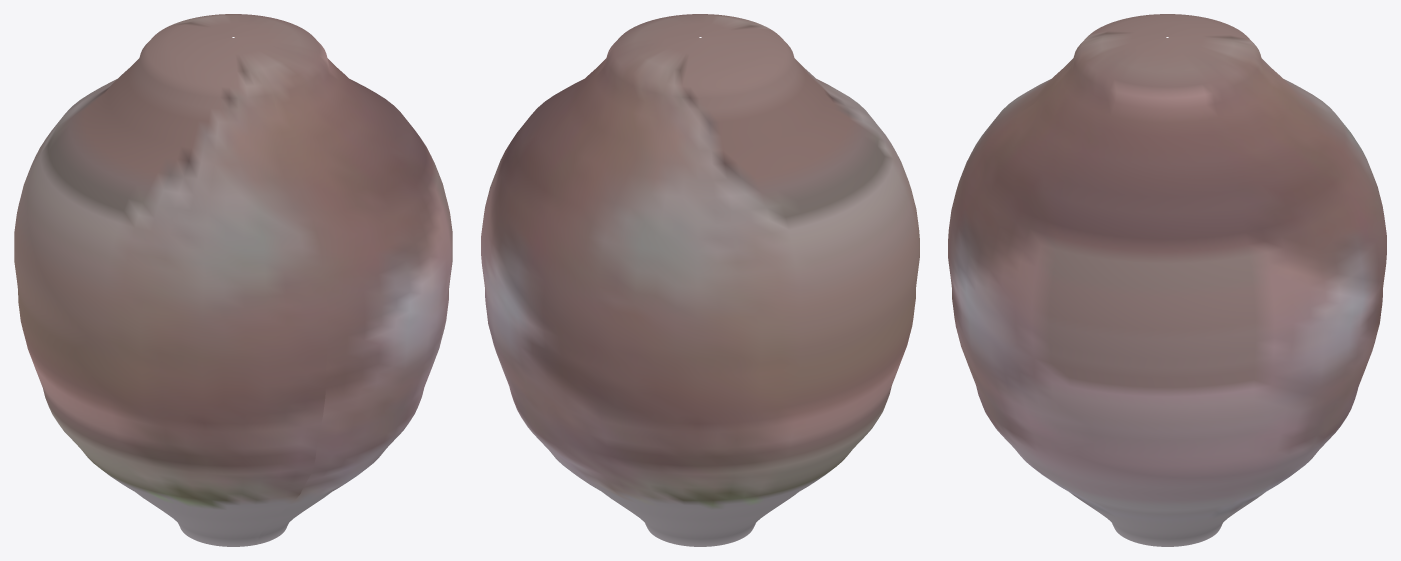
Rendered from mushroom-5.glb.
3 views of the same model, side by side, from view 1: azimuth 30°, elevation 25°; view 2: azimuth 150°, elevation 25°; view 3: azimuth 270°, elevation 25° (orthographic).
Parts seen in each view (by area): view 1: mushroom-5; view 2: mushroom-5; view 3: mushroom-5.
Part boxes in pixels (left/top/right/bottom): mushroom-5: left=14, top=14, right=452, bottom=546; mushroom-5: left=481, top=14, right=919, bottom=546; mushroom-5: left=948, top=14, right=1386, bottom=546.
Bounding box in the file's own units: 0.3342 × 0.4091 × 0.3342.
